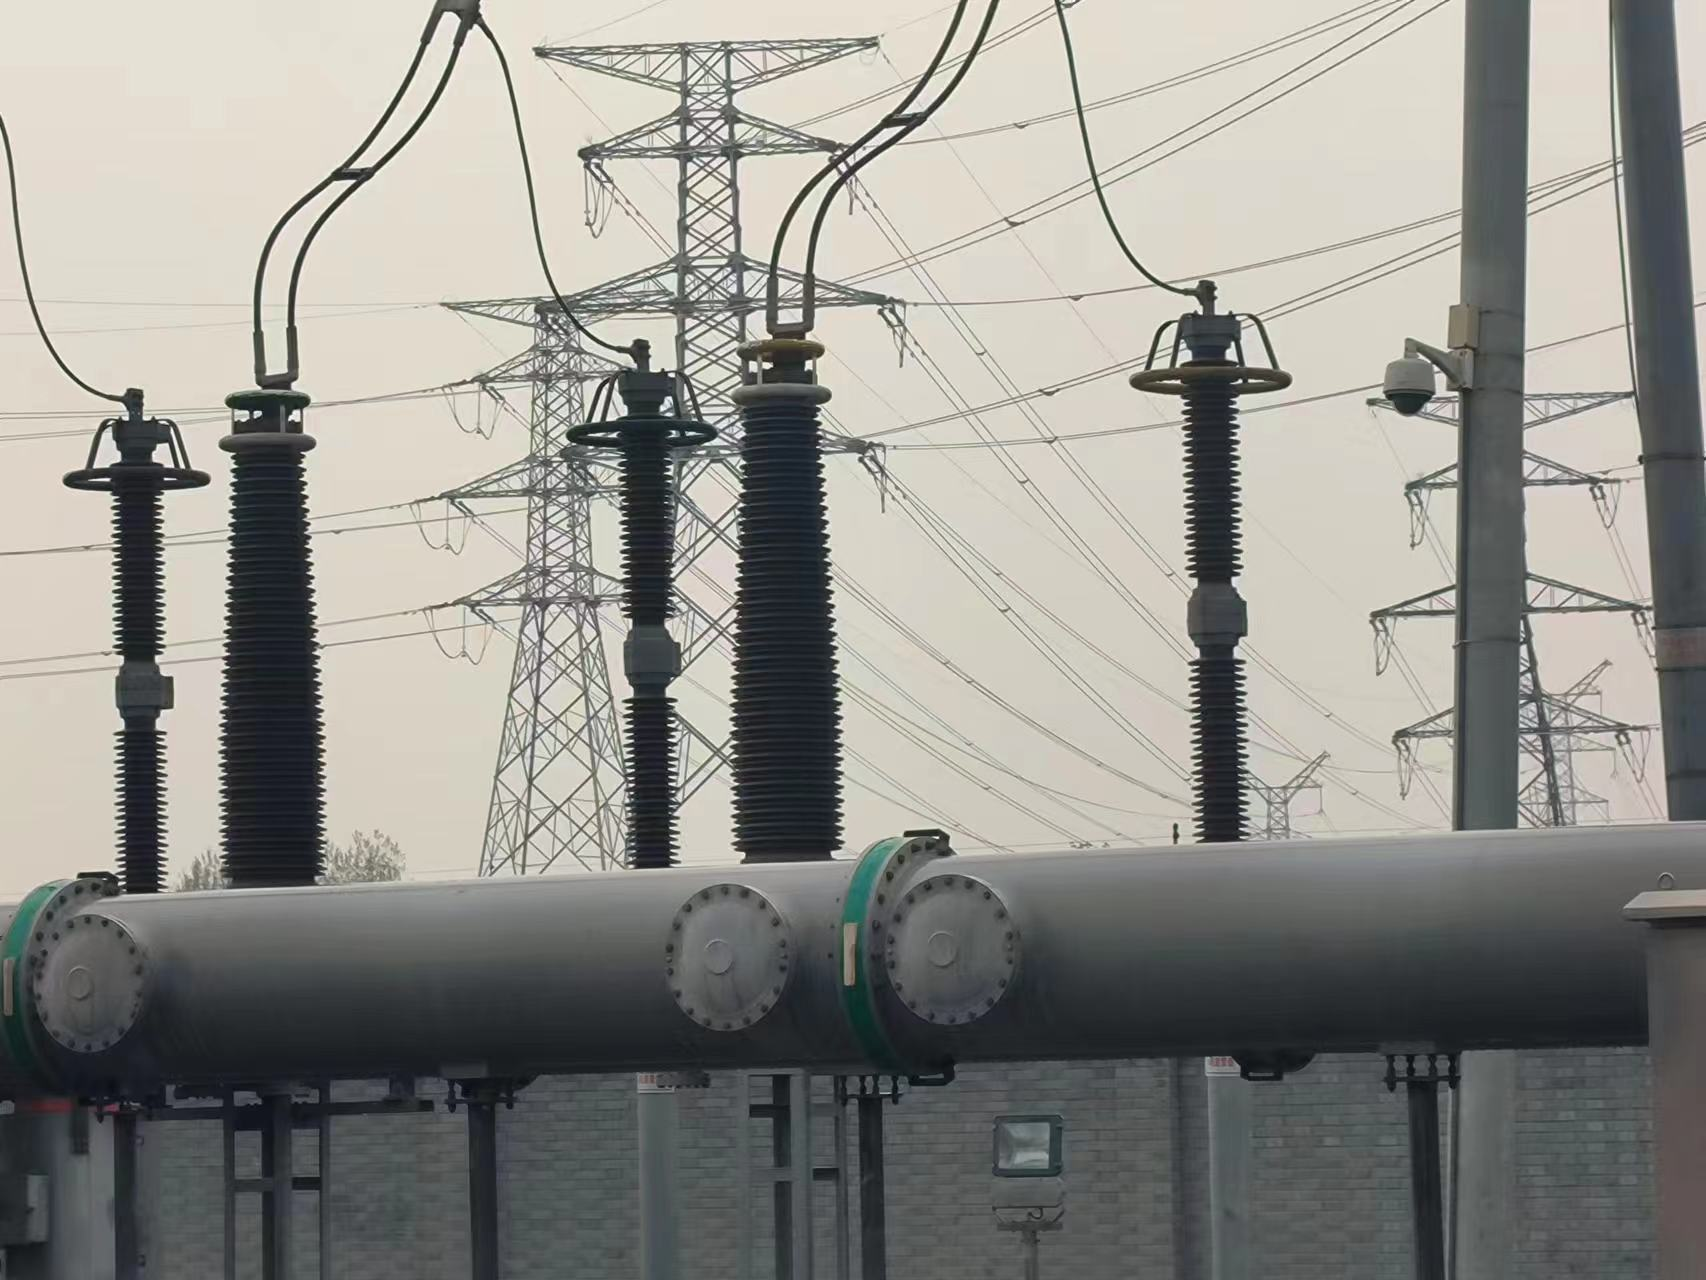Arrester: (1123, 305, 1299, 840), (563, 346, 721, 873), (60, 394, 215, 891)
Voltage transformer: (208, 393, 350, 882), (725, 339, 850, 856)
